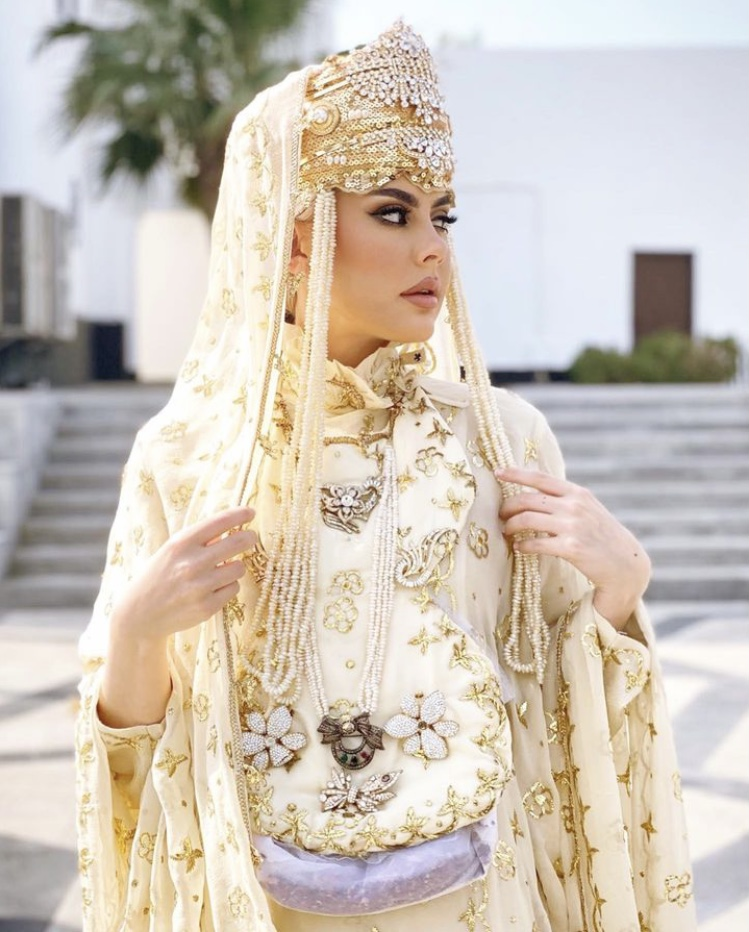Saudi_Founding_Day: (68, 12, 706, 931)
